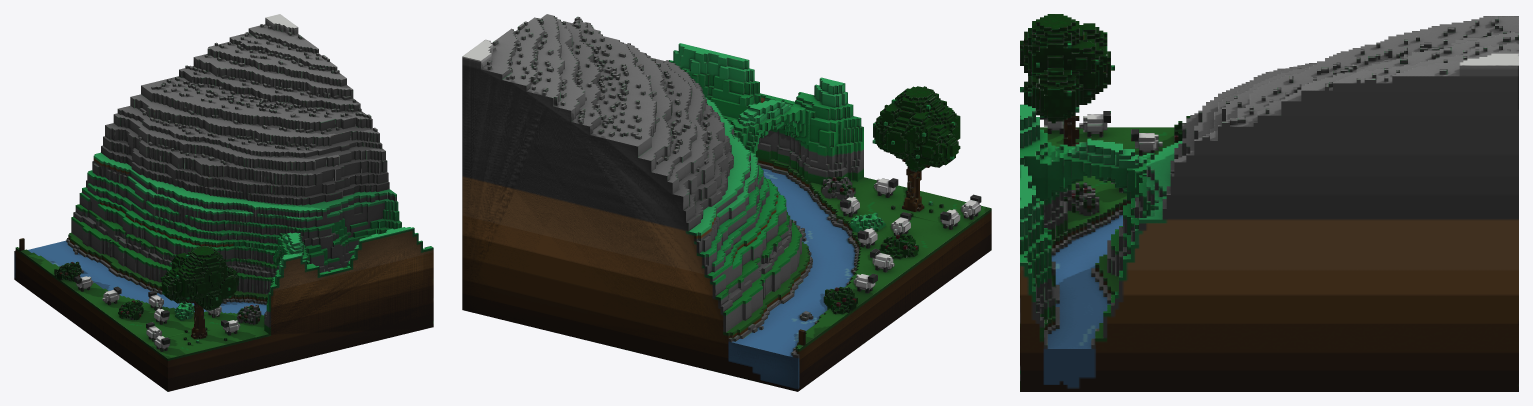
The picture shows the model from 3 angles, left to right: view 1: azimuth 30°, elevation 25°; view 2: azimuth 150°, elevation 25°; view 3: azimuth 270°, elevation 25°; orthographic projection. The views are drawn at different scales.
Parts seen in each view (by area): view 1: _E; view 2: _E; view 3: _E.
Boxes of the visible parts, x1=… form: _E: x1=14, y1=14, x2=433, y2=391; _E: x1=462, y1=14, x2=991, y2=391; _E: x1=1020, y1=14, x2=1518, y2=391.
Size of the model in its own units: 126 by 126 by 91.
1 material, 1 textured.
